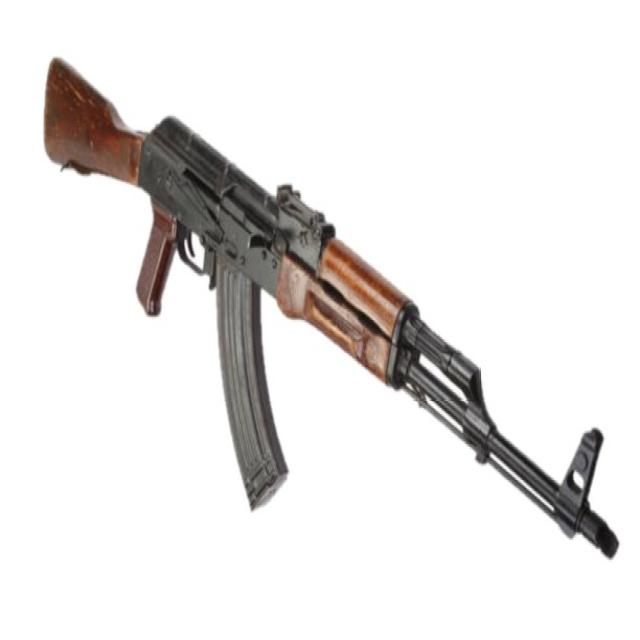rifle: (39, 43, 628, 566)
